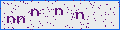n: (75, 11, 84, 20), (17, 15, 26, 24), (54, 8, 63, 15), (31, 9, 39, 16), (7, 16, 15, 23)
